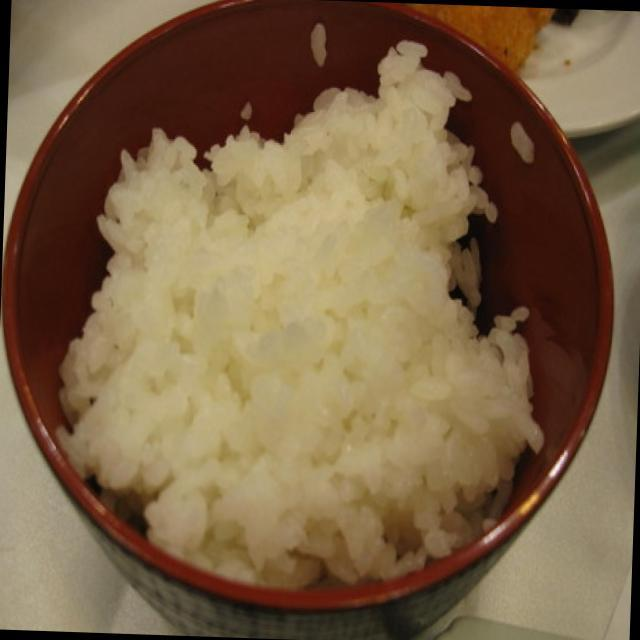Rice: (64, 100, 529, 558)
